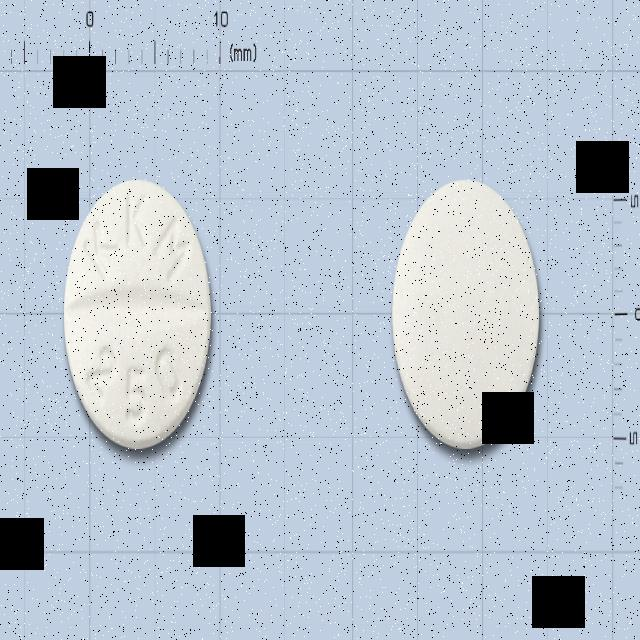Ciploxcin: (62, 172, 217, 458)
